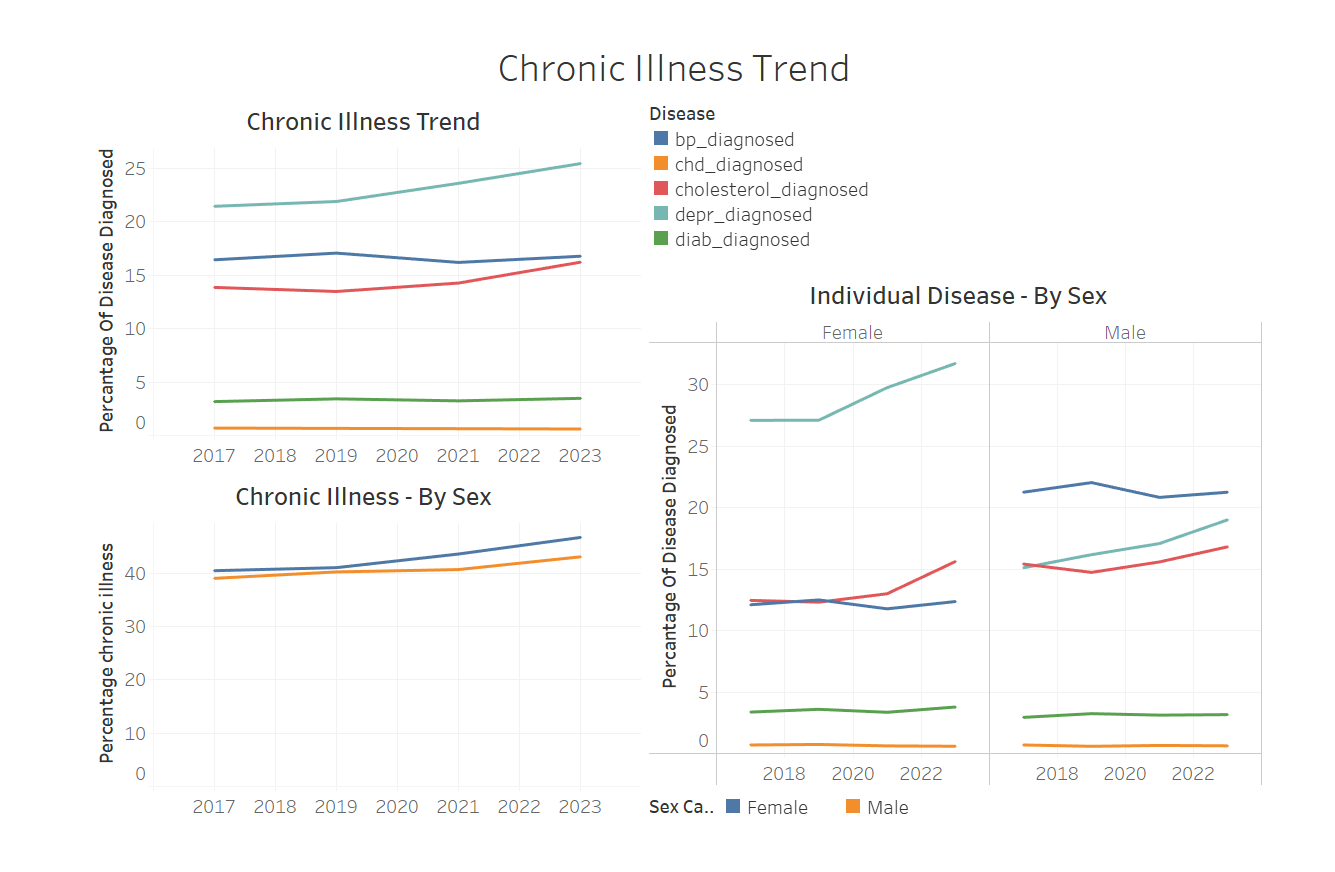

This screenshot's page, from the dashboard's own definition file:
{"tool":"tableau","page":{"name":"Trends","canvas":[1200,800],"ordinal":5},"visuals":[{"type":"title","box":[8,8,1184,58]},{"type":"worksheet","title":"Chronic Illness Trend","mark":"Automatic","rows":["Calculation_963207398485704704"],"cols":["year (new_merged_actual_vs_predicted.csv)"],"box":[8,66,563,375]},{"type":"legend","title":"Chronic Illness Trend","param":"[federated.1eyh0di1v6c3jl159ehho1ouayks].[none:disease:nk]","box":[571,66,621,174]},{"type":"worksheet","title":"Trend in Individual Chronic Disease - By Sex","mark":"Automatic","rows":["Calculation_963207398485704704"],"cols":["sex_category (new_merged_for_tableau.csv1)","year (new_merged_for_tableau.csv1)"],"box":[571,240,621,520]},{"type":"worksheet","title":"Trend in Chronic Disease - By Sex","mark":"Automatic","rows":["Calculation_89790546143260680"],"cols":["year (new_merged_for_tableau.csv1)"],"box":[8,441,563,351]},{"type":"legend","title":"Trend in Chronic Disease - By Sex","param":"[federated.1eyh0di1v6c3jl159ehho1ouayks].[none:sex_category (new_merged_for_tabl","box":[571,760,621,32]}]}

Visuals, with their boxes in screenshot pixels (x1, y1, x2, y2), scaled from the page's 1200x800 canvas onto the 1335x872 screenshot:
title: <region>9, 9, 1326, 72</region>
"Chronic Illness Trend" worksheet: <region>9, 72, 635, 481</region>
"Chronic Illness Trend" legend: <region>635, 72, 1326, 262</region>
"Trend in Individual Chronic Disease - By Sex" worksheet: <region>635, 262, 1326, 828</region>
"Trend in Chronic Disease - By Sex" worksheet: <region>9, 481, 635, 863</region>
"Trend in Chronic Disease - By Sex" legend: <region>635, 828, 1326, 863</region>
